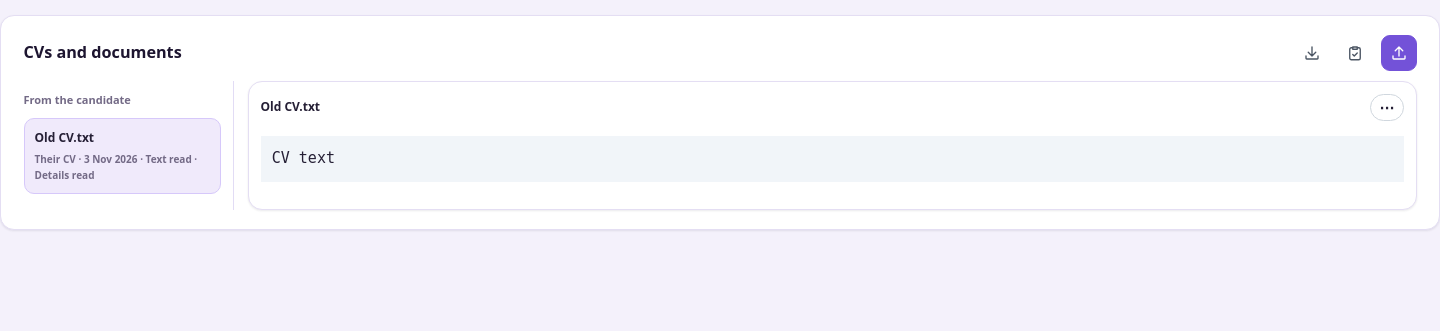
Test: CVs and documents › opens the review of a CV still read the old way after reading it once again
This screenshot has width=1440, height=331.
Check: the text "CV text" is shown, box [260, 136, 1404, 182]
Click the button named "Review details" at (1355, 53), box [1337, 35, 1373, 71]
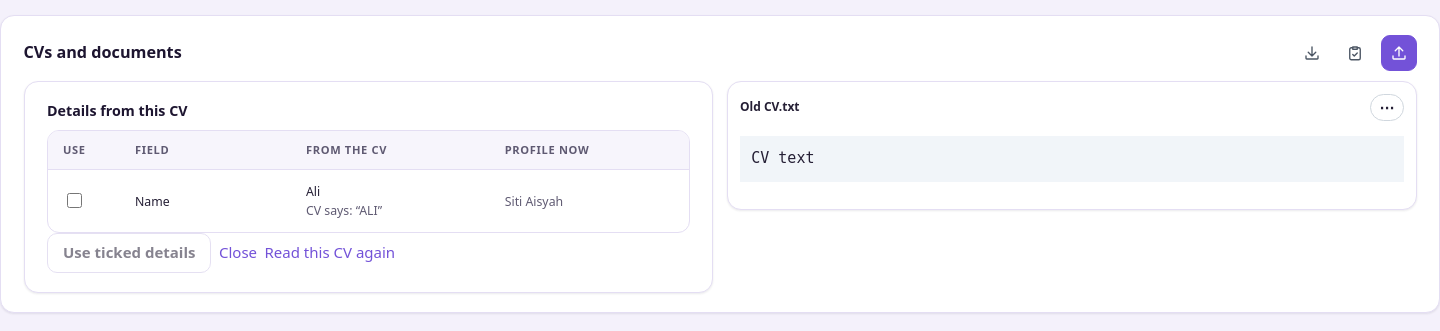
Check: the element "Details from this CV" is shown, box [24, 80, 713, 293]
Click the button named "Close review" at (1355, 53), box [1337, 35, 1373, 71]
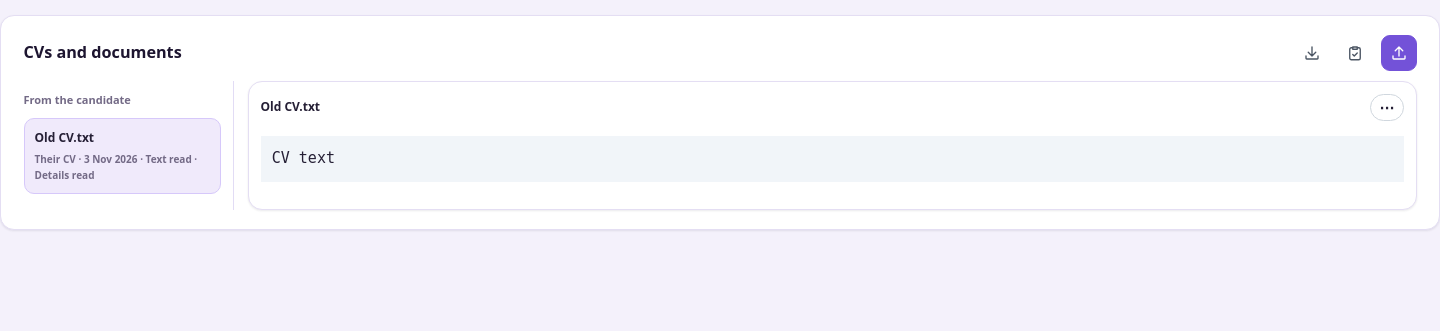
Click the button named "Review details" at (1355, 53), box [1337, 35, 1373, 71]
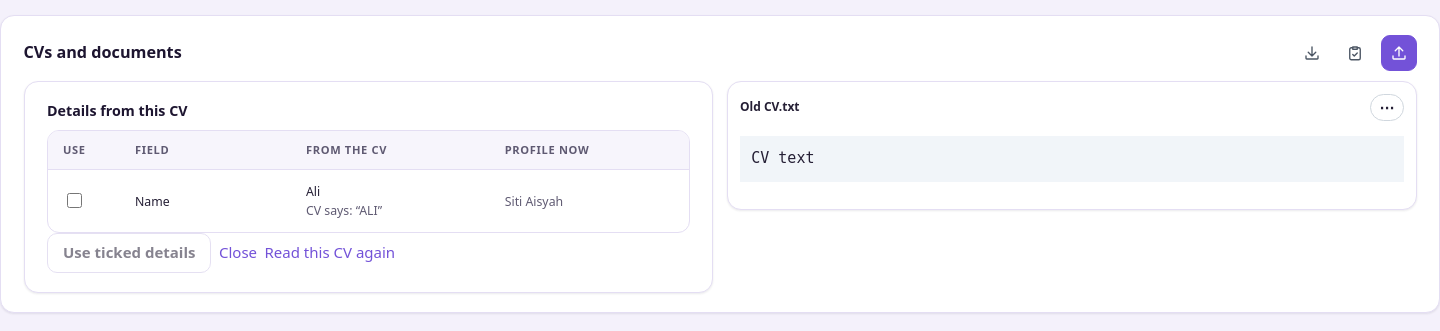
Check: the element "Details from this CV" is shown, box [24, 80, 713, 293]
